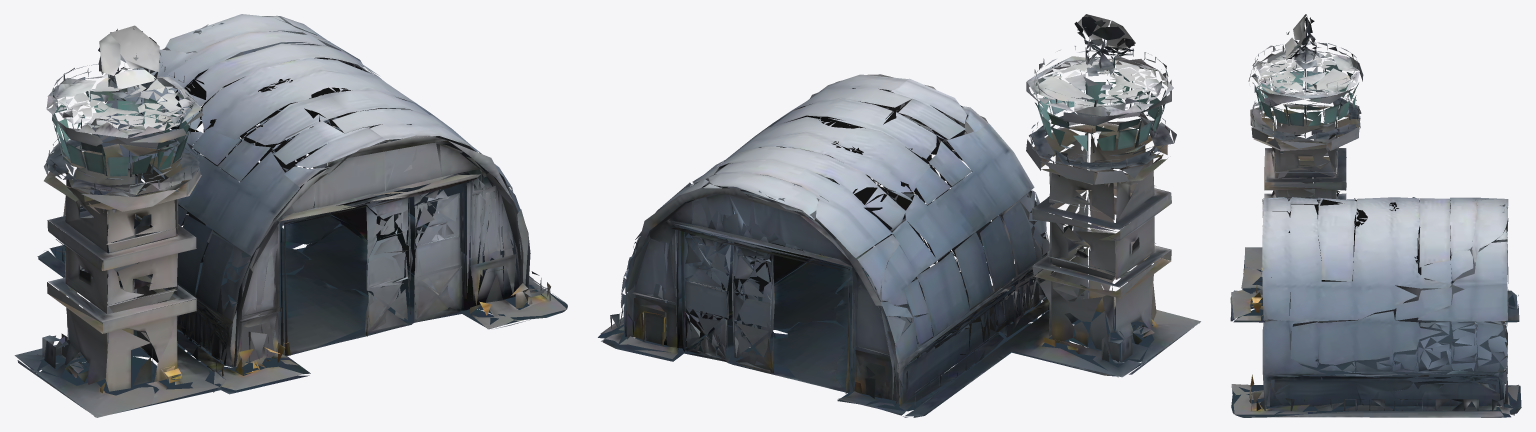
The model's file is tower_hangar.glb.
The picture shows the model from 3 angles, left to right: view 1: azimuth 30°, elevation 25°; view 2: azimuth 150°, elevation 25°; view 3: azimuth 270°, elevation 25°; orthographic projection. The views are drawn at different scales.
Visible parts, largest first — view 1: tower; view 2: tower; view 3: tower.
Part boxes in pixels (box(x1,y1,x2,y2)): tower: box(14, 14, 567, 417); tower: box(598, 14, 1200, 417); tower: box(1230, 14, 1521, 417).
Size of the model in its own units: 0.8693 by 0.6095 by 0.6254.
1 material, 1 textured.
